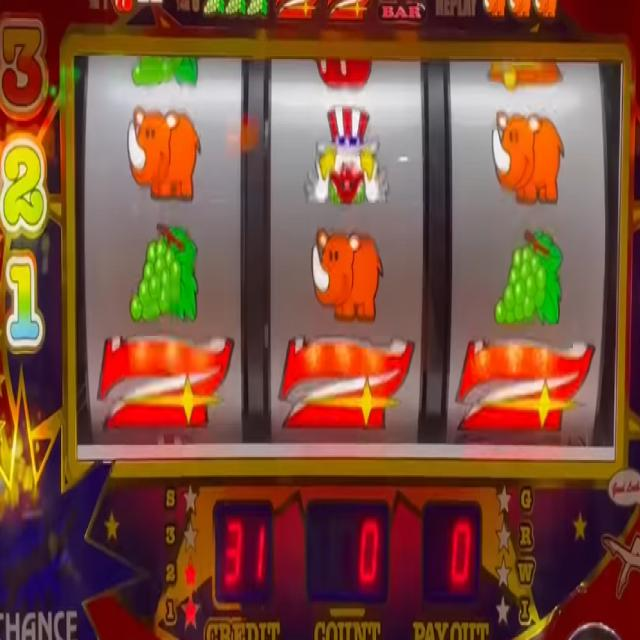bar: (376, 0, 426, 22)
bell: (484, 58, 564, 90)
cherry: (312, 55, 373, 90), (111, 0, 135, 13)
clown: (304, 103, 390, 207)
display: (73, 48, 615, 463)
elephant: (127, 102, 202, 201), (491, 111, 565, 207), (313, 227, 384, 326), (508, 0, 532, 20), (534, 0, 558, 18), (484, 0, 506, 17)
grape: (130, 220, 199, 326), (493, 227, 563, 329), (132, 55, 200, 88), (202, 0, 224, 16), (248, 0, 266, 19), (224, 0, 246, 15)
z: (278, 332, 415, 436), (460, 333, 594, 435), (98, 335, 232, 432), (326, 0, 370, 25), (276, 0, 316, 22)
